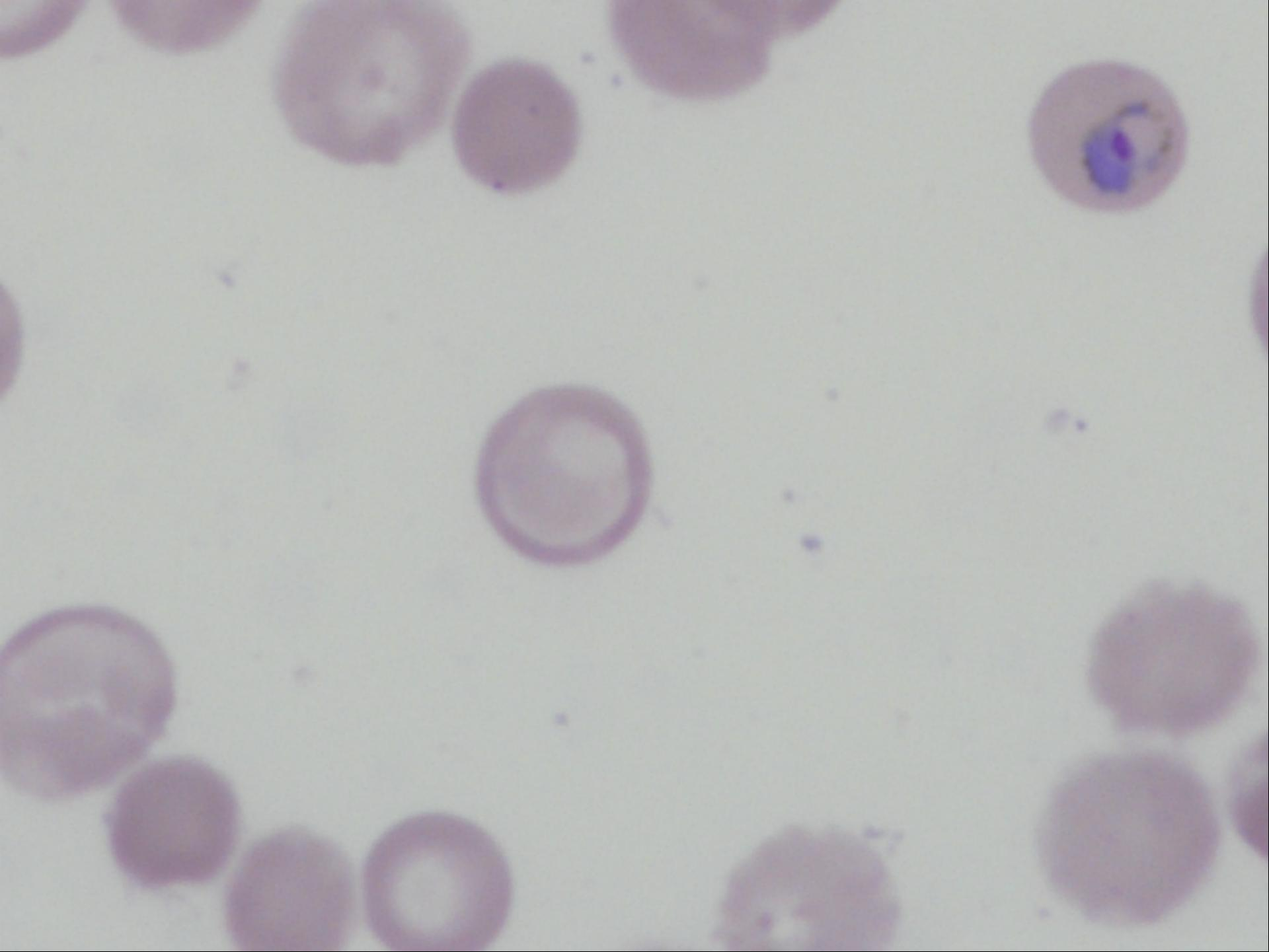Infected: (1035, 56, 1187, 207)
Uninfected: (0, 604, 176, 801), (476, 377, 658, 567), (1042, 749, 1222, 917), (284, 1, 464, 160), (1091, 582, 1256, 732), (364, 816, 508, 952), (227, 827, 361, 952), (456, 60, 577, 195), (112, 758, 234, 887)
